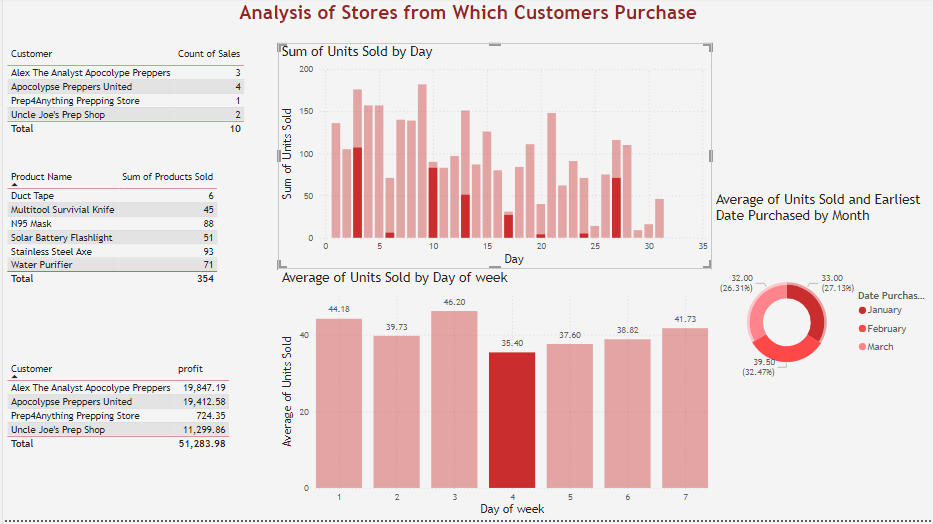

Layout of this report page (visuals, bound fields, positions):
{"tool":"powerbi","page":{"name":"Page ١","canvas":[1280,720],"ordinal":0},"visuals":[{"type":"tableEx","fields":{"Values":["Apocolypse Sales.Customer","Apocolypse Sales.Count of Sales"]},"box":[0,62.7,357.3,156],"z":0},{"type":"tableEx","fields":{"Values":["Apocolypse Store.Product Name","Apocolypse Sales.Sum of Products Sold"]},"box":[0,232,357.3,265.3],"z":1000},{"type":"tableEx","fields":{"Values":["Apocolypse Sales.Customer","Apocolypse Store.profit"]},"box":[0,497.3,357.3,222.7],"z":2000},{"type":"columnChart","fields":{"Y":["Sum(Apocolypse Sales.Units Sold)"],"Category":["Apocolypse Sales.Date Purchased.Variation.Date Hierarchy.Day"]},"box":[378.7,62.7,597.3,312],"z":3000},{"type":"clusteredColumnChart","fields":{"Y":["Avg(Apocolypse Sales.Units Sold)"],"Category":["Apocolypse Sales.Day of week"]},"box":[378.7,374.7,597.3,345.3],"z":4000},{"type":"donutChart","fields":{"Category":["Apocolypse Sales.Date Purchased.Variation.Date Hierarchy.Month","Apocolypse Sales.Date Purchased.Variation.Date Hierarchy.Day"],"Y":["Avg(Apocolypse Sales.Units Sold)"]},"box":[976,266.7,304,317.3],"z":5000},{"type":"textbox","box":[0,0,1280,62.7],"z":6000}]}

Visuals, with their boxes in screenshot pixels (x1, y1, x2, y2), scaled from the page's 1280x720 canvas onto the 933x524 screenshot:
tableEx - Apocolypse Sales.Customer x Apocolypse Sales.Count of Sales: [left=0, top=46, right=260, bottom=159]
tableEx - Apocolypse Store.Product Name x Apocolypse Sales.Sum of Products Sold: [left=0, top=169, right=260, bottom=362]
tableEx - Apocolypse Sales.Customer x Apocolypse Store.profit: [left=0, top=362, right=260, bottom=523]
columnChart - Sum(Apocolypse Sales.Units Sold) x Apocolypse Sales.Date Purchased.Variation.Date Hierarchy.Day: [left=276, top=46, right=711, bottom=273]
clusteredColumnChart - Avg(Apocolypse Sales.Units Sold) x Apocolypse Sales.Day of week: [left=276, top=273, right=711, bottom=523]
donutChart - Apocolypse Sales.Date Purchased.Variation.Date Hierarchy.Month x Apocolypse Sales.Date Purchased.Variation.Date Hierarchy.Day: [left=711, top=194, right=932, bottom=425]
textbox: [left=0, top=0, right=932, bottom=46]
